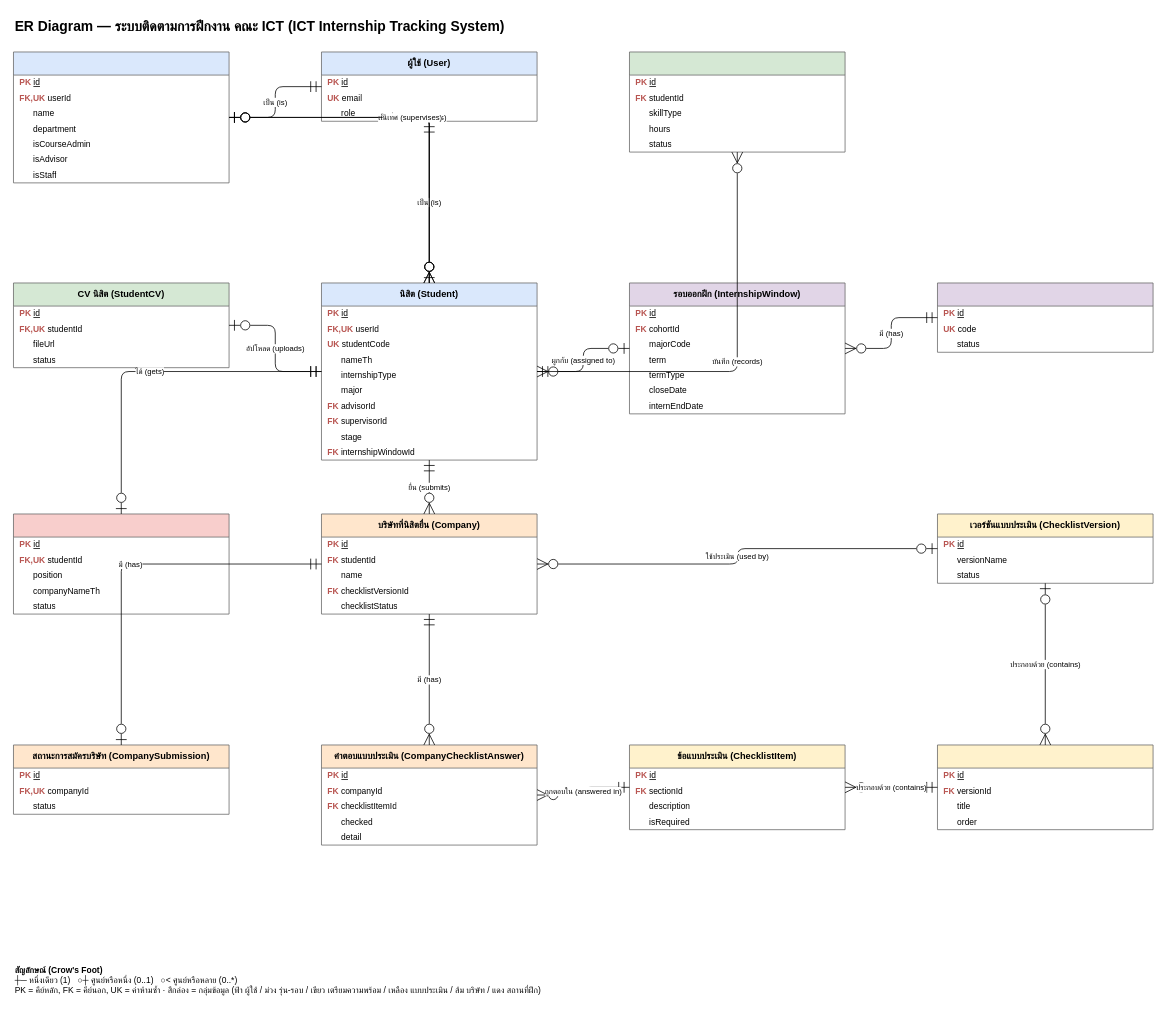
The diagram is 1167 pixels wide and 1012 high, and some of its shapes have lost their labels. Here are the shapes that lost their labels. From the top down, the box of each, then its label:
(13, 51, 229, 183): บุคลากร (Staff)
(629, 51, 845, 152): ชั่วโมงอบรม (TrainingRecord)
(937, 282, 1153, 352): รุ่น (InternshipCohort)
(13, 513, 229, 614): สถานที่ฝึกงาน (InternshipPlacement)
(937, 744, 1153, 830): หมวดแบบประเมิน (ChecklistSection)
